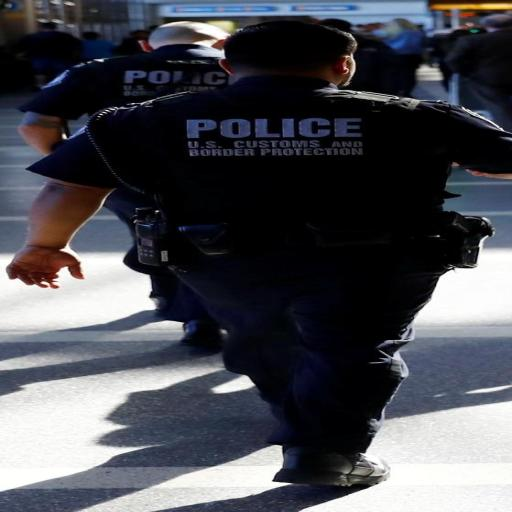person: (8, 22, 511, 485), (20, 22, 228, 154), (446, 14, 511, 130), (320, 19, 401, 94), (13, 22, 80, 87), (375, 19, 424, 96), (82, 32, 115, 61), (115, 30, 150, 55)
